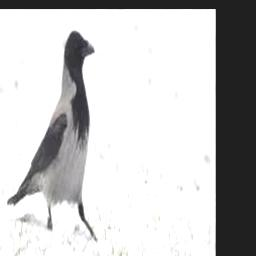Crow: (6, 28, 96, 241)
